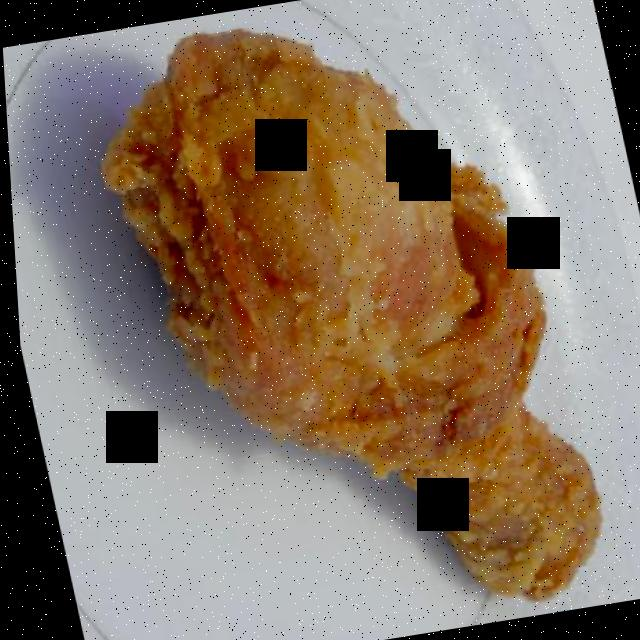Frango: (97, 0, 640, 631)
